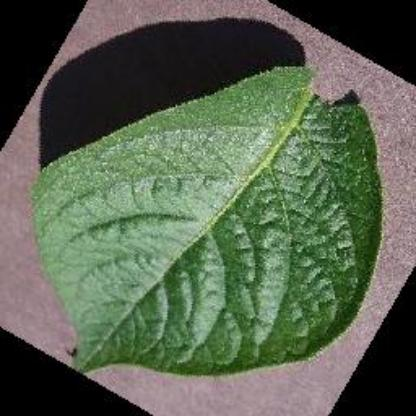Healthy-plant: (12, 11, 394, 388)
